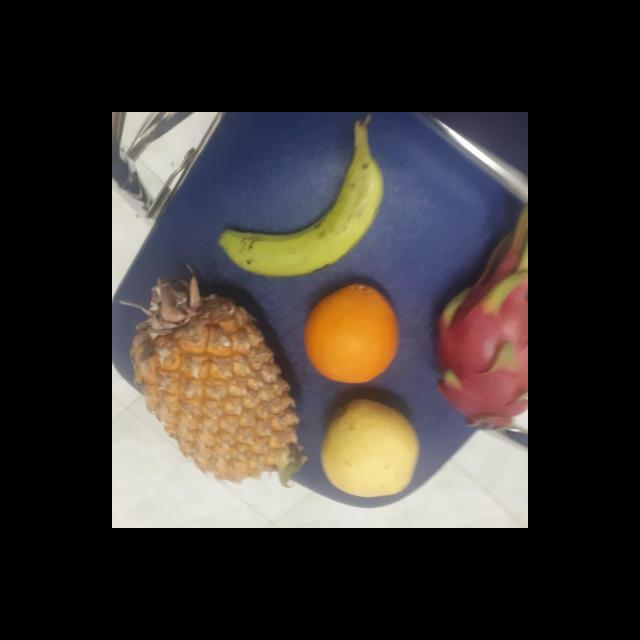banana: (226, 145, 390, 275)
orange: (304, 284, 403, 384)
pineapple: (135, 272, 304, 480)
pitaya: (433, 280, 527, 432)
